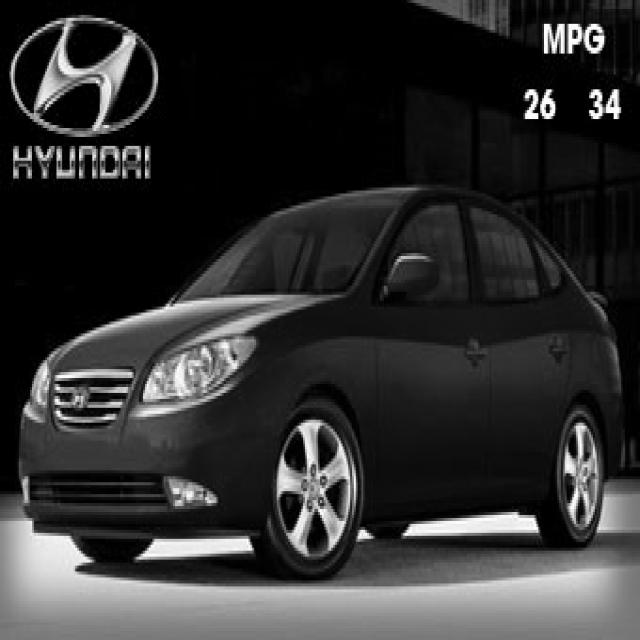car: (17, 182, 625, 580)
